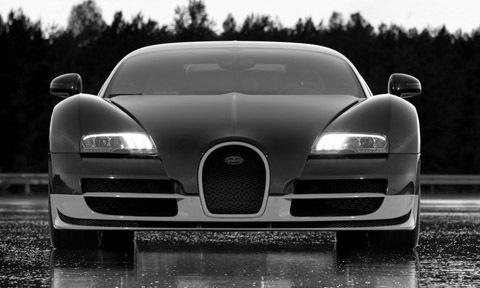car: (51, 42, 421, 247)
